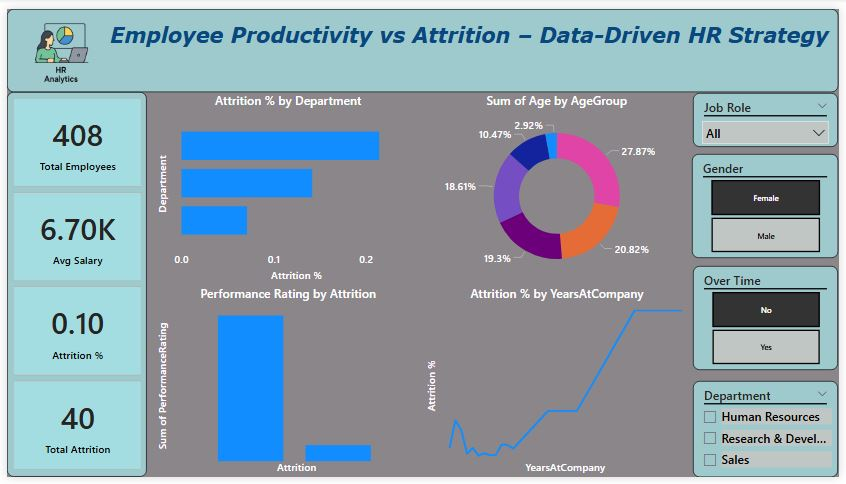

What the dashboard file says about the page in this screenshot:
{"tool":"powerbi","page":{"name":"Overview","canvas":[1280,720],"ordinal":0},"visuals":[{"type":"textbox","box":[0,0,1278.7,127.9],"z":0},{"type":"cardVisual","fields":{"Data":["HR-Employee-Attrition.Total Employees","HR-Employee-Attrition.Avg Salary","HR-Employee-Attrition.Attrition %","HR-Employee-Attrition.Total Attrition"]},"box":[0,127.9,214.8,591.8],"z":1000},{"type":"image","box":[0,9,162.1,113.8],"z":2000},{"type":"donutChart","fields":{"Category":["HR-Employee-Attrition.AgeGroup"],"Y":["Sum(HR-Employee-Attrition.Age)"]},"box":[640,128.3,411.7,295],"z":3000},{"type":"barChart","fields":{"Category":["HR-Employee-Attrition.Department"],"Y":["HR-Employee-Attrition.Attrition %"]},"box":[215.4,129.2,413.8,293.8],"z":4000},{"type":"columnChart","title":"Performance Rating by Attrition","fields":{"Category":["HR-Employee-Attrition.Attrition"],"Y":["Sum(HR-Employee-Attrition.PerformanceRating)"]},"box":[215.4,426.2,413.8,293.8],"z":5000},{"type":"slicer","fields":{"Values":["HR-Employee-Attrition.JobRole"]},"box":[1055.2,128.4,222.4,83.6],"z":6000},{"type":"slicer","fields":{"Values":["HR-Employee-Attrition.Gender"]},"box":[1053.3,223.1,225.4,160.4],"z":7000},{"type":"slicer","fields":{"Values":["HR-Employee-Attrition.OverTime"]},"box":[1055.7,395.7,222.9,160],"z":8000},{"type":"lineChart","fields":{"Y":["HR-Employee-Attrition.Attrition %"],"Category":["HR-Employee-Attrition.YearsAtCompany"]},"box":[640,426.2,412.3,293.8],"z":9000},{"type":"slicer","fields":{"Values":["HR-Employee-Attrition.Department"]},"box":[1055.6,571.7,223,148.1],"z":10000},{"type":"actionButton","box":[1191,65.7,74.6,47.8],"z":11000}]}

Visuals, with their boxes in screenshot pixels (x1, y1, x2, y2), scaled from the page's 1280x720 canvas onto the 846x484 screenshot:
textbox: {"left": 0, "top": 0, "right": 845, "bottom": 86}
cardVisual - HR-Employee-Attrition.Total Employees x HR-Employee-Attrition.Avg Salary: {"left": 0, "top": 86, "right": 142, "bottom": 483}
image: {"left": 0, "top": 6, "right": 107, "bottom": 83}
donutChart - HR-Employee-Attrition.AgeGroup x Sum(HR-Employee-Attrition.Age): {"left": 423, "top": 86, "right": 695, "bottom": 285}
barChart - HR-Employee-Attrition.Department x HR-Employee-Attrition.Attrition %: {"left": 142, "top": 87, "right": 416, "bottom": 284}
"Performance Rating by Attrition" columnChart: {"left": 142, "top": 287, "right": 416, "bottom": 483}
slicer - HR-Employee-Attrition.JobRole: {"left": 697, "top": 86, "right": 844, "bottom": 143}
slicer - HR-Employee-Attrition.Gender: {"left": 696, "top": 150, "right": 845, "bottom": 258}
slicer - HR-Employee-Attrition.OverTime: {"left": 698, "top": 266, "right": 845, "bottom": 374}
lineChart - HR-Employee-Attrition.Attrition % x HR-Employee-Attrition.YearsAtCompany: {"left": 423, "top": 287, "right": 696, "bottom": 483}
slicer - HR-Employee-Attrition.Department: {"left": 698, "top": 384, "right": 845, "bottom": 483}
actionButton: {"left": 787, "top": 44, "right": 836, "bottom": 76}
